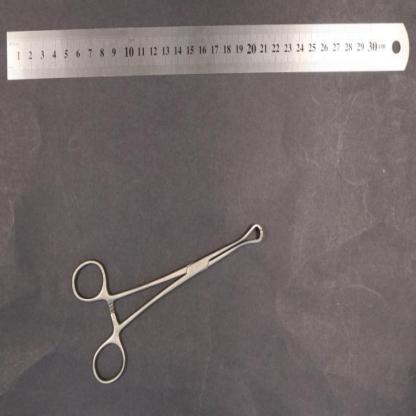Babcock Tissue Forceps: (72, 223, 264, 384)
